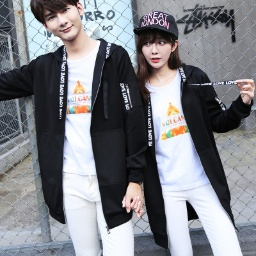face: (131, 26, 187, 73), (27, 1, 87, 42)
